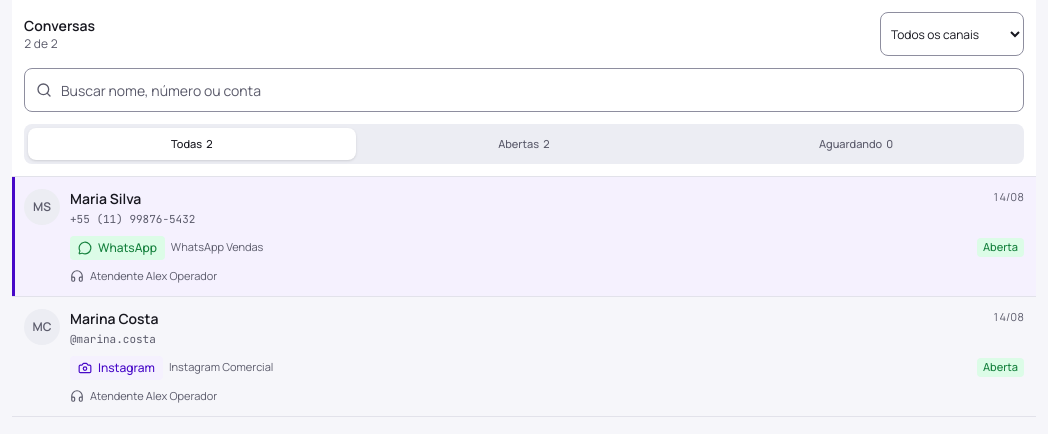
Test case: identificação operacional da Inbox › filtra, identifica e abre a conversa do Instagram
Select "Instagram" in the dropdown named "Filtrar por canal": (952, 34) [880,12,1024,56]
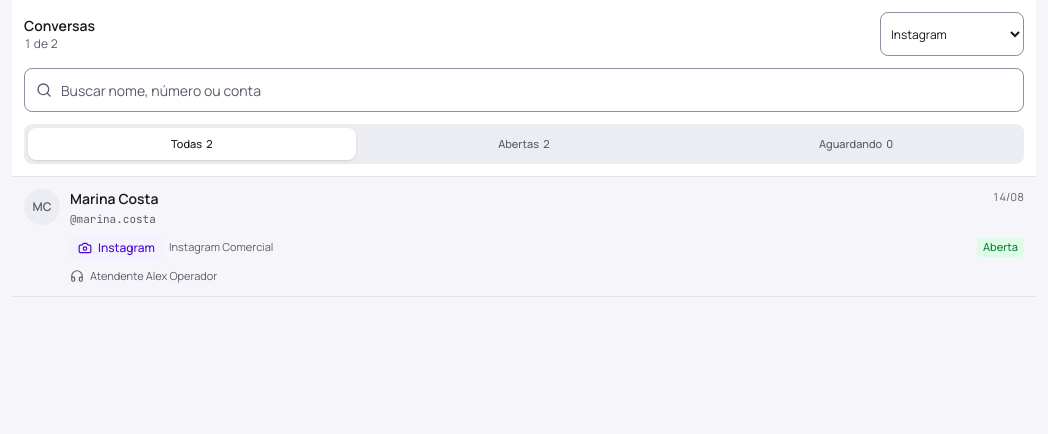
Expected: the text "Marina Costa" is shown, [70,189,158,209]
Result: the button "Maria Silva" is gone
